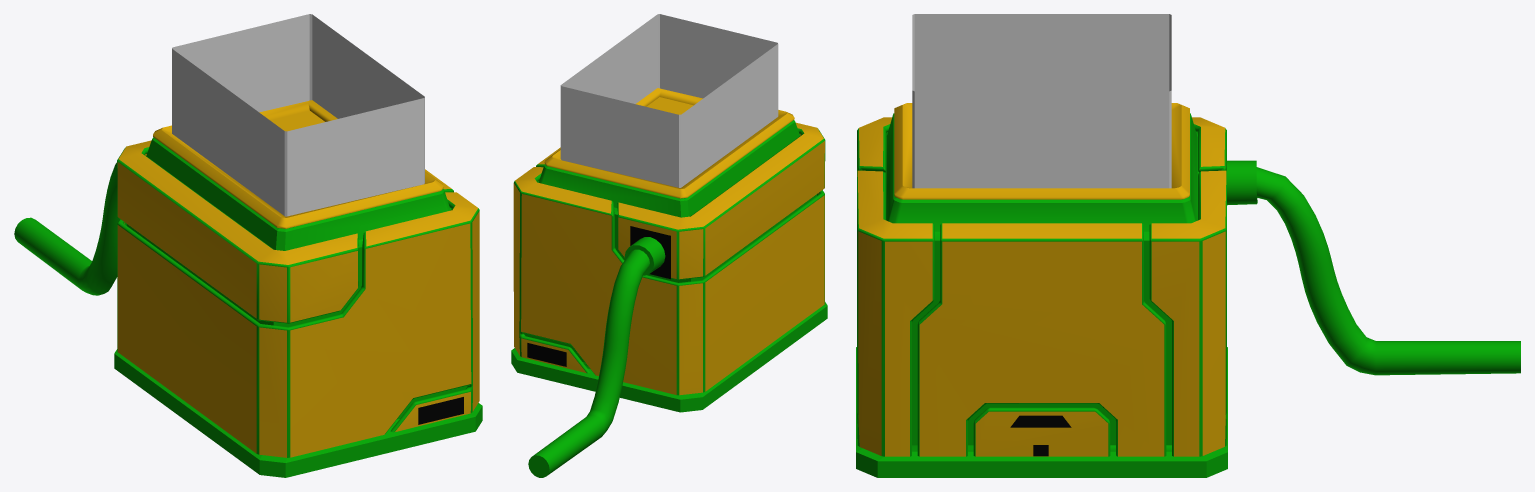
Rendered from SM0126_Lobby_HologramMachine_01.fbx.
3 views of the same model, side by side, from view 1: azimuth 30°, elevation 25°; view 2: azimuth 150°, elevation 25°; view 3: azimuth 270°, elevation 25° (orthographic). The views are drawn at different scales.
Parts seen in each view (by area): view 1: SM0126_Lobby_HologramMachine_01, SM0126_Lobby_HologramMachine_01.001; view 2: SM0126_Lobby_HologramMachine_01, SM0126_Lobby_HologramMachine_01.001; view 3: SM0126_Lobby_HologramMachine_01, SM0126_Lobby_HologramMachine_01.001.
Part boxes in pixels (x1,y1,x2,y2): SM0126_Lobby_HologramMachine_01: [14, 100, 482, 477]; SM0126_Lobby_HologramMachine_01.001: [172, 14, 424, 216]; SM0126_Lobby_HologramMachine_01: [511, 88, 827, 477]; SM0126_Lobby_HologramMachine_01.001: [560, 14, 778, 187]; SM0126_Lobby_HologramMachine_01: [856, 103, 1520, 477]; SM0126_Lobby_HologramMachine_01.001: [912, 14, 1171, 188].
Size of the model in its own units: 222 by 508 by 306.
